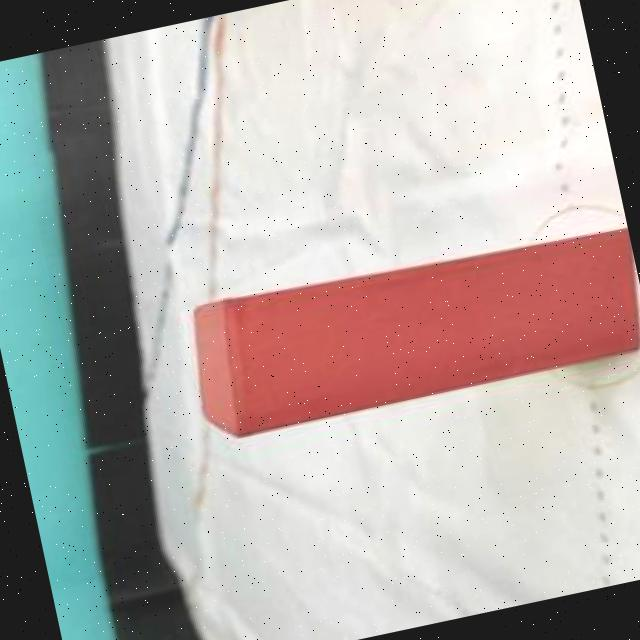redbox: (179, 214, 640, 446)
